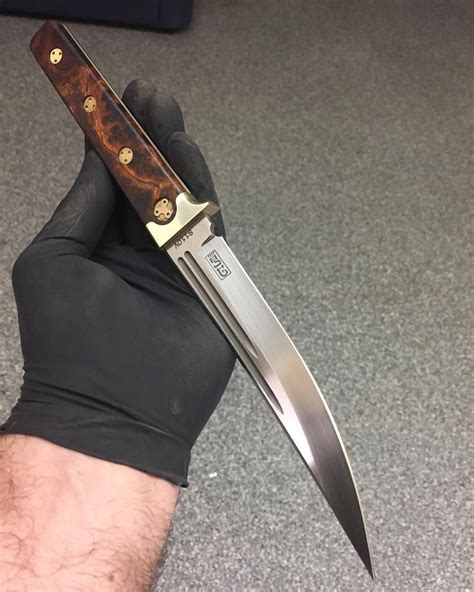knife: (29, 20, 375, 584)
